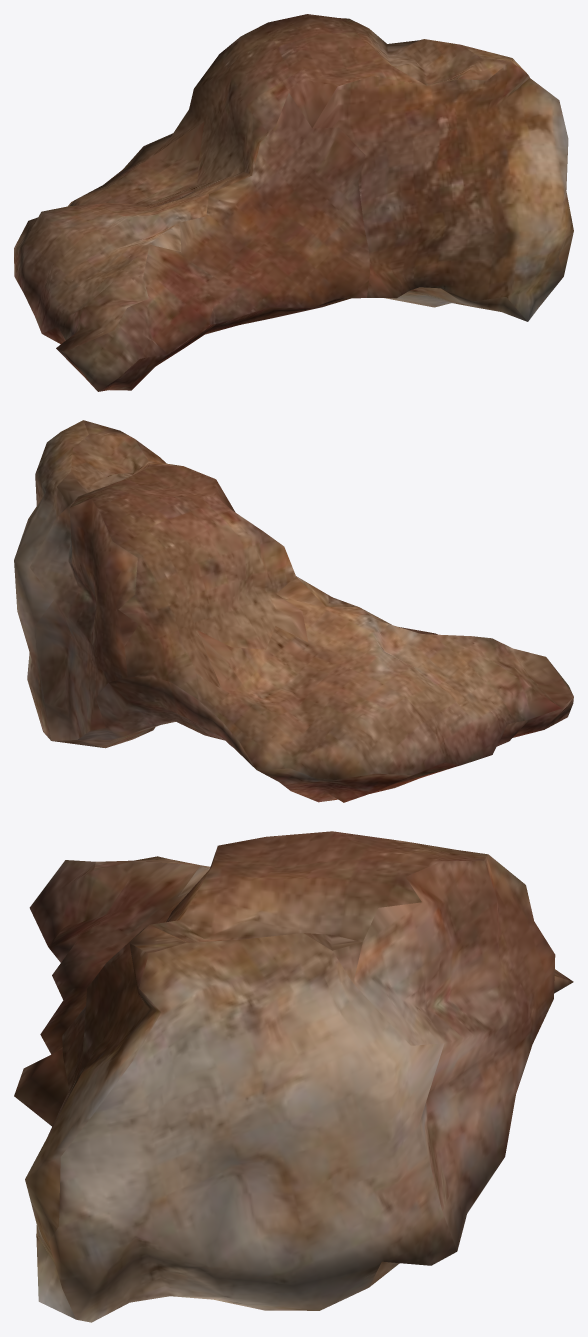
The model's file is rock_d.glb.
3 renders of one model, top to bottom at view 1: azimuth 30°, elevation 25°; view 2: azimuth 150°, elevation 25°; view 3: azimuth 270°, elevation 25°, orthographic. The views are drawn at different scales.
Parts seen in each view (by area): view 1: rock_d; view 2: rock_d; view 3: rock_d.
Boxes of the visible parts, box(x1,y1,x2,y2) form: rock_d: box(14, 14, 573, 391); rock_d: box(14, 420, 573, 802); rock_d: box(14, 831, 573, 1322).
Bounding box in the file's own units: 0.1445 × 0.0707 × 0.0886.
1 material, 1 textured.
